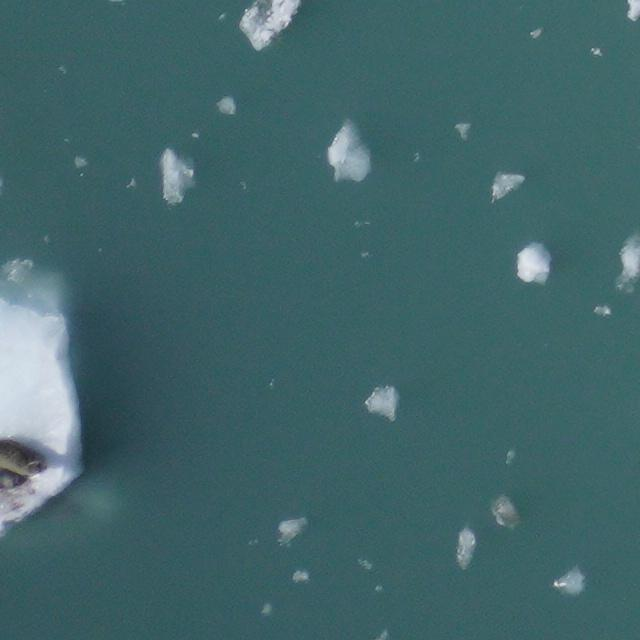seal: (0, 439, 48, 475), (0, 468, 30, 489)
